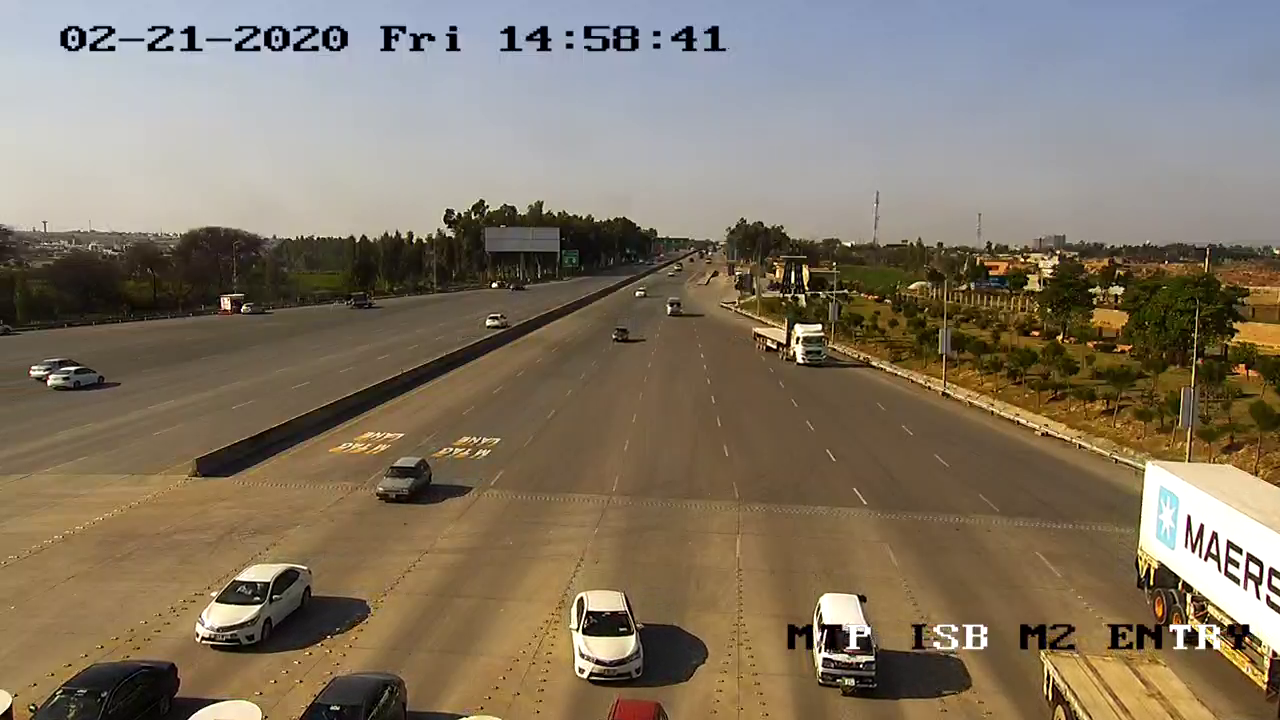f1: (179, 554, 328, 657), (555, 569, 657, 694), (365, 449, 442, 509)
